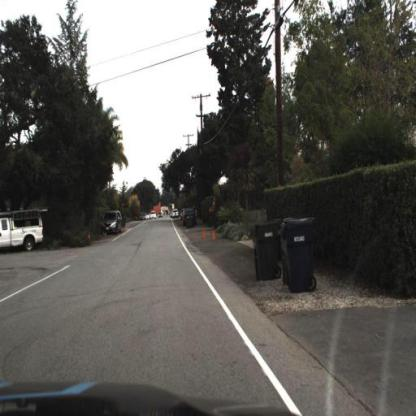car: (1, 205, 47, 256), (101, 206, 124, 235)
